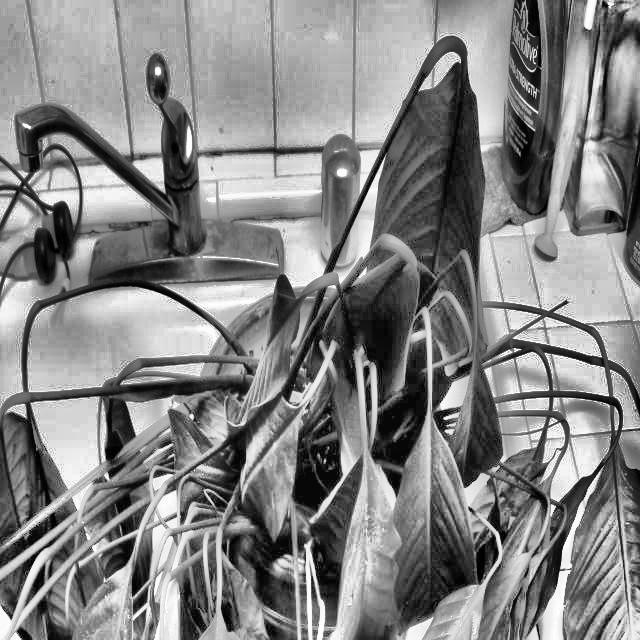plants: (0, 39, 637, 640), (0, 370, 91, 634), (96, 352, 160, 581)
